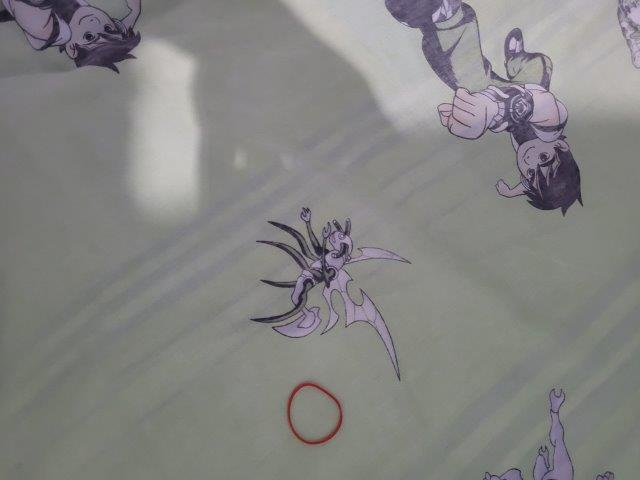karet: (287, 383, 344, 446)
